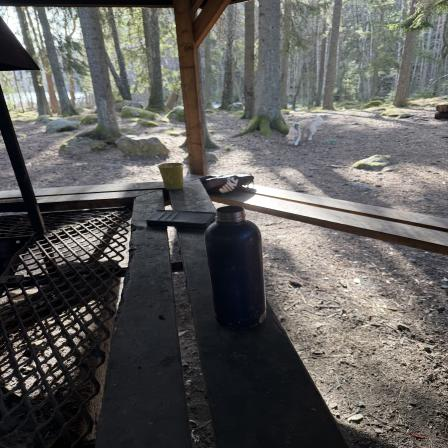blue_bottle: (206, 206, 268, 330)
phone: (146, 206, 217, 230)
yellow_cup: (157, 162, 191, 192)
